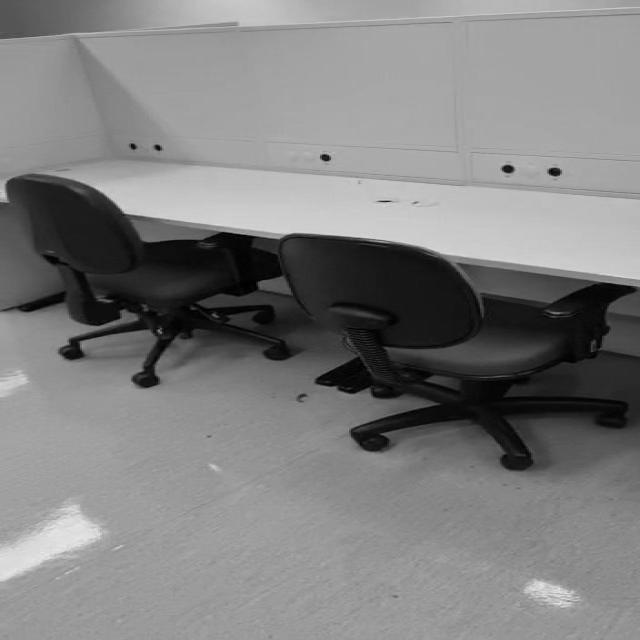cadeira-azul: (6, 174, 291, 388)
